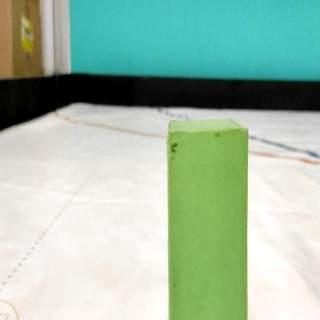greenbox: (168, 118, 247, 320)
